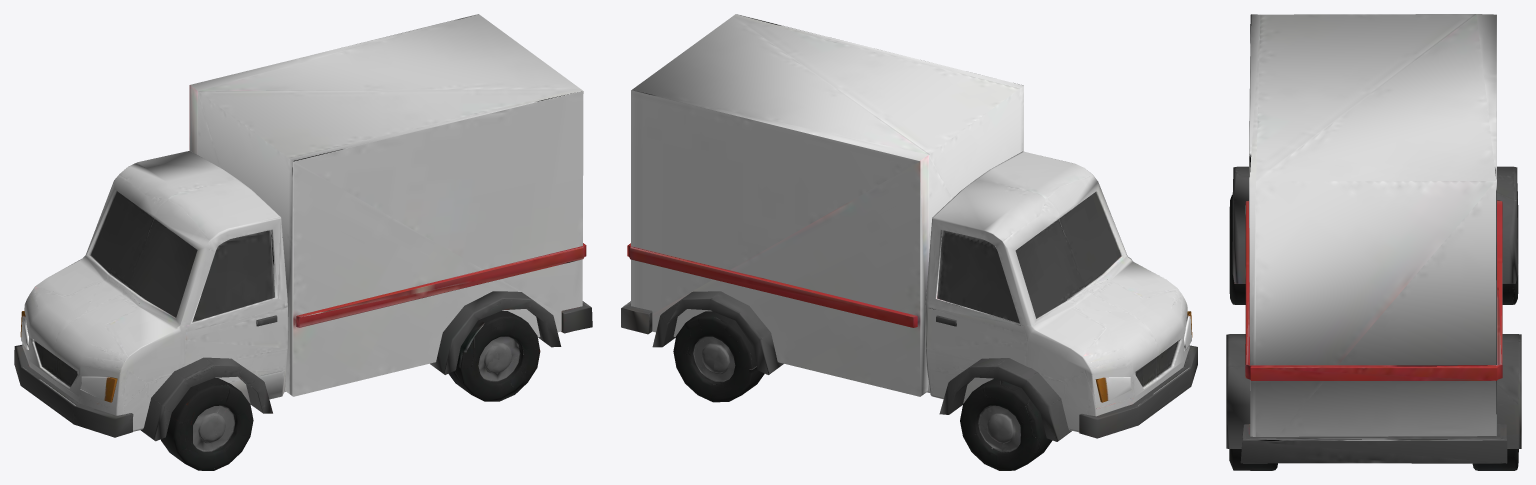
The model's file is truck.glb.
3 renders of one model, left to right at view 1: azimuth 30°, elevation 25°; view 2: azimuth 150°, elevation 25°; view 3: azimuth 270°, elevation 25°, orthographic. The views are drawn at different scales.
Visible parts, largest first — view 1: geometry_0; view 2: geometry_0; view 3: geometry_0.
Part boxes in pixels (x1,y1,x2,y2): geometry_0: (14, 14, 592, 470); geometry_0: (621, 14, 1197, 470); geometry_0: (1226, 14, 1521, 470).
Size of the model in its own units: 0.9536 by 0.5303 by 0.4213.
1 material, 1 textured.
